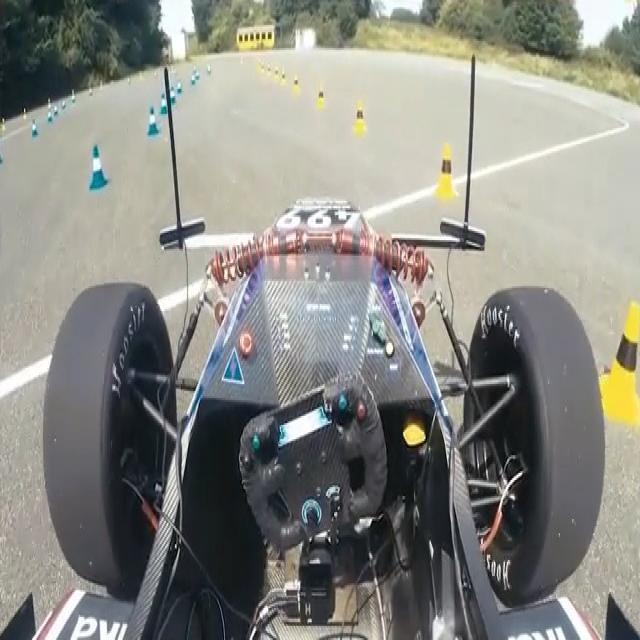blue_cone: (80, 132, 116, 200), (136, 97, 158, 143)
yellow_cone: (599, 294, 640, 422), (428, 125, 468, 211), (350, 91, 374, 148), (311, 76, 330, 126), (292, 63, 304, 101)
